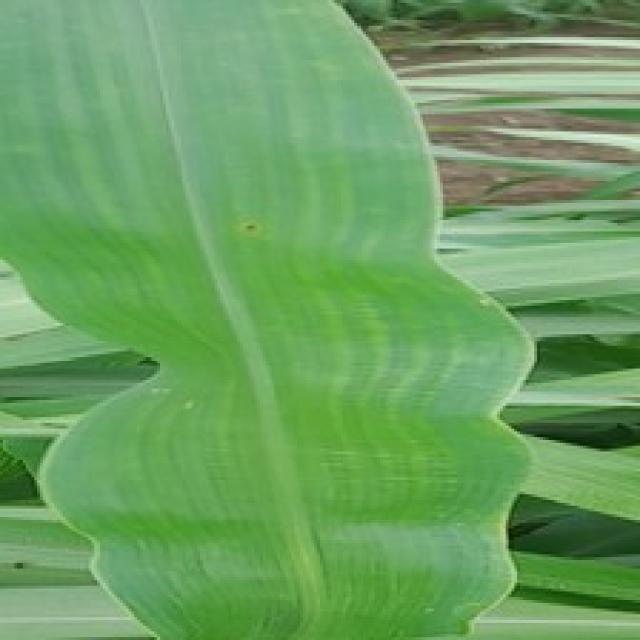Corn: (0, 0, 540, 637)
